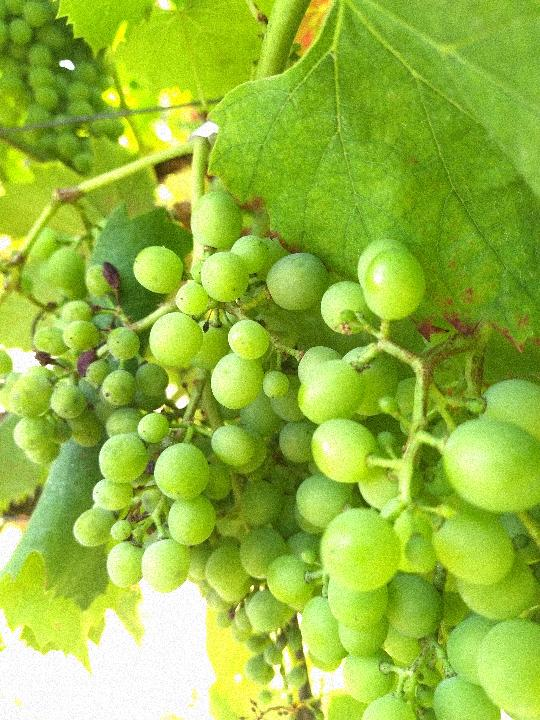grape: (272, 244, 538, 717), (6, 195, 264, 592)
